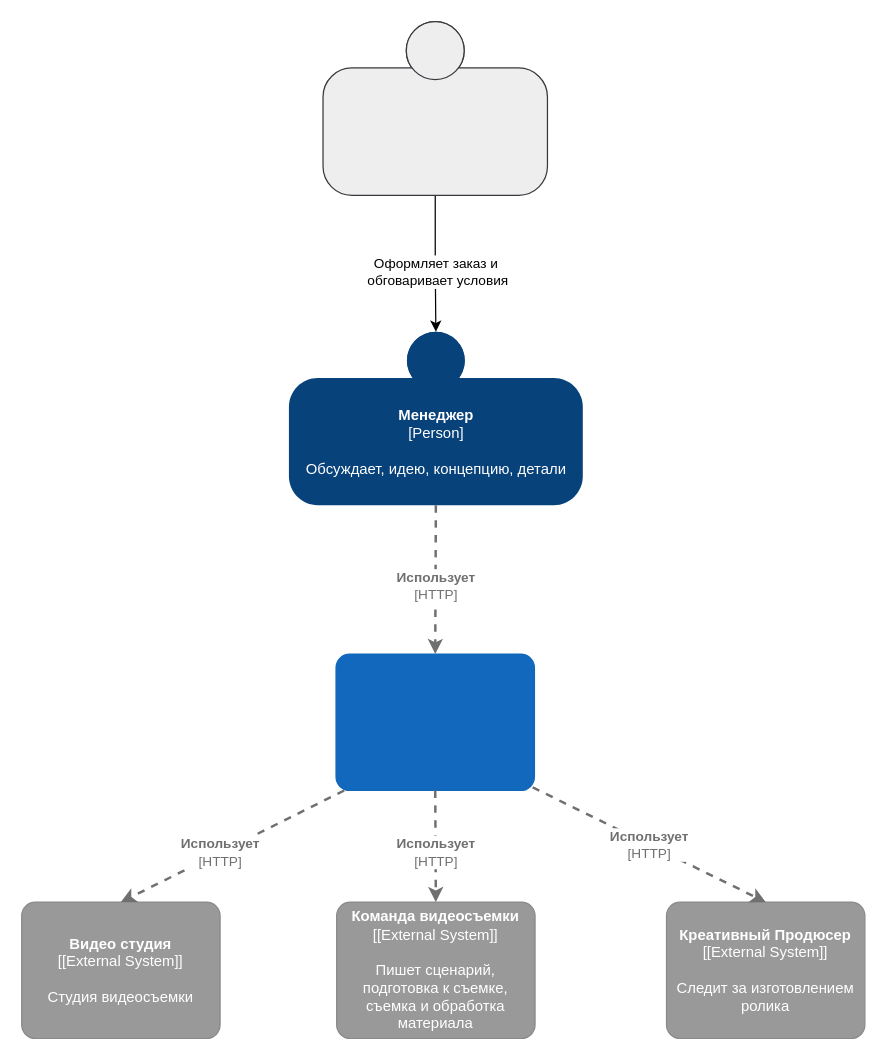
This 887x1060 diagram has some shape labels left out. Each missing label, with the box of its shape:
Покупатель [[External Person]] Потенциальные покупатели: (322, 20, 547, 195)
Продакшн [Software System] Обработка и выполнение заказа: (335, 653, 534, 790)
